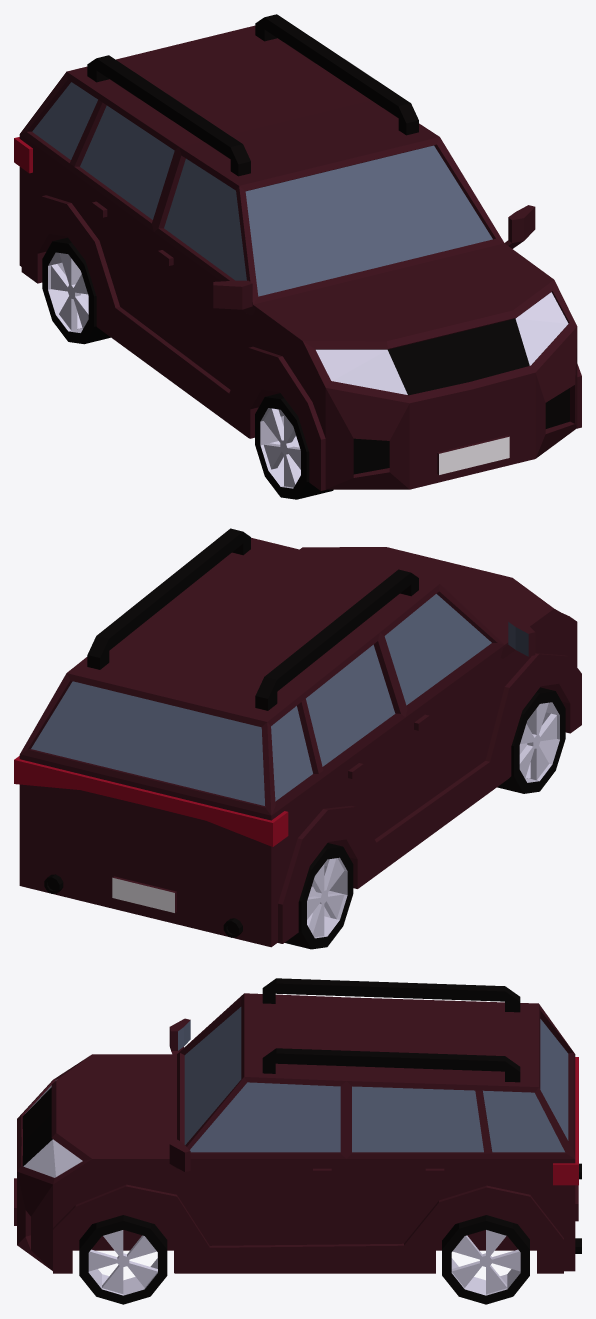
File: highlander.glb
The picture shows the model from 3 angles, top to bottom: view 1: azimuth 30°, elevation 25°; view 2: azimuth 150°, elevation 25°; view 3: azimuth 270°, elevation 25°; orthographic projection. The views are drawn at different scales.
Parts seen in each view (by area): view 1: SUV, SUV wheel front right, SUV wheel rear right; view 2: SUV, SUV wheel rear right, SUV wheel front right; view 3: SUV, SUV wheel front left, SUV wheel rear left.
Boxes of the visible parts, left/top/right/bottom form: SUV: left=14, top=14, right=581, bottom=490; SUV wheel front right: left=255, top=393, right=333, bottom=499; SUV wheel rear right: left=42, top=237, right=110, bottom=344; SUV: left=14, top=528, right=581, bottom=947; SUV wheel rear right: left=285, top=843, right=353, bottom=949; SUV wheel front right: left=497, top=687, right=565, bottom=793; SUV: left=14, top=978, right=581, bottom=1273; SUV wheel front left: left=79, top=1215, right=167, bottom=1304; SUV wheel rear left: left=442, top=1215, right=529, bottom=1304.
Bounding box in the file's own units: 2.81 × 2.3 × 5.04.
